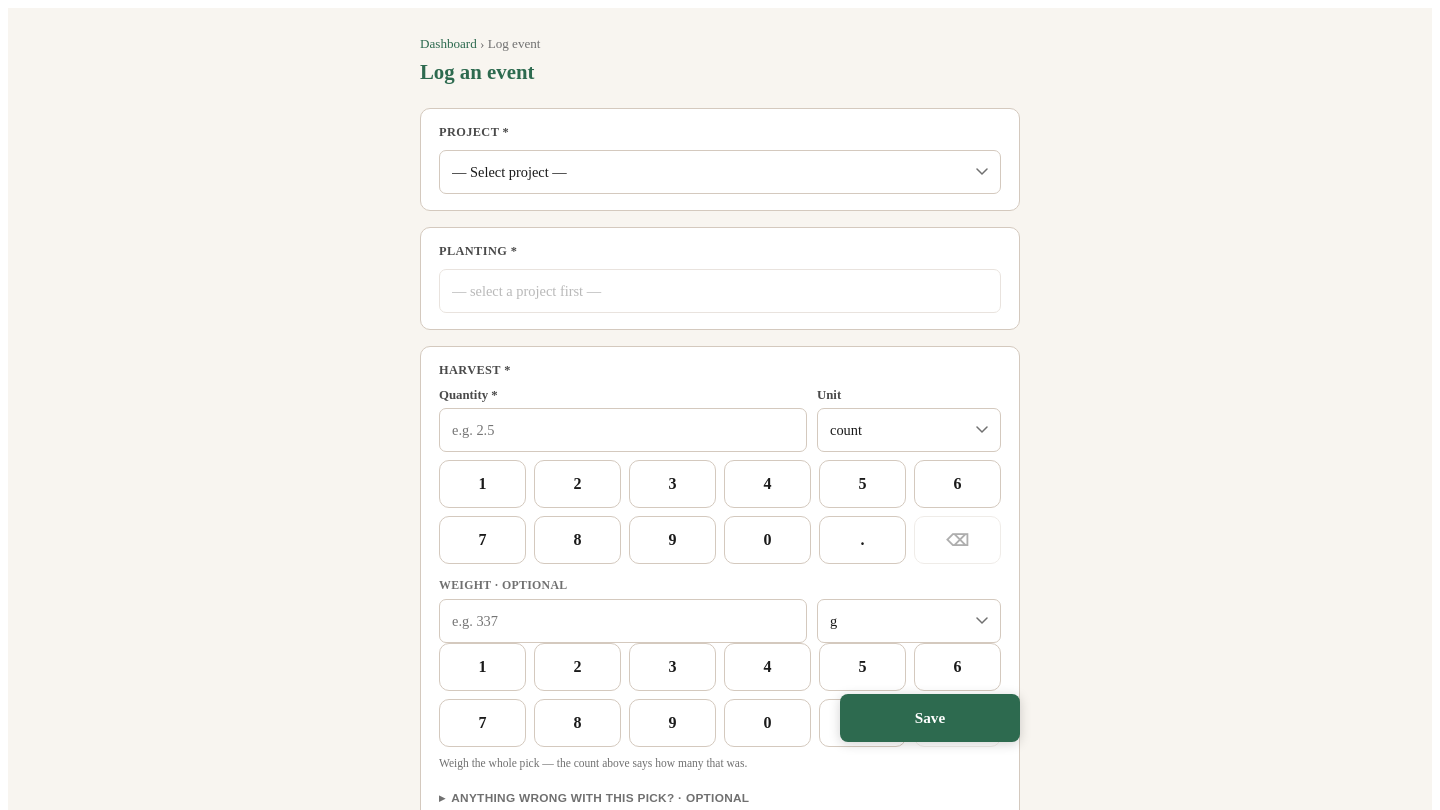
EventNew — sticky-band clearance wiring (BUG-WEIGHPADSAVEBAND-001) › a weight-keypad press clears it too — the pad-only path never focuses the field
The width and height of the screenshot is (1440, 810).
Click the button with test id "wt-key-3".
click(672, 667)  # box [629,643,716,691]
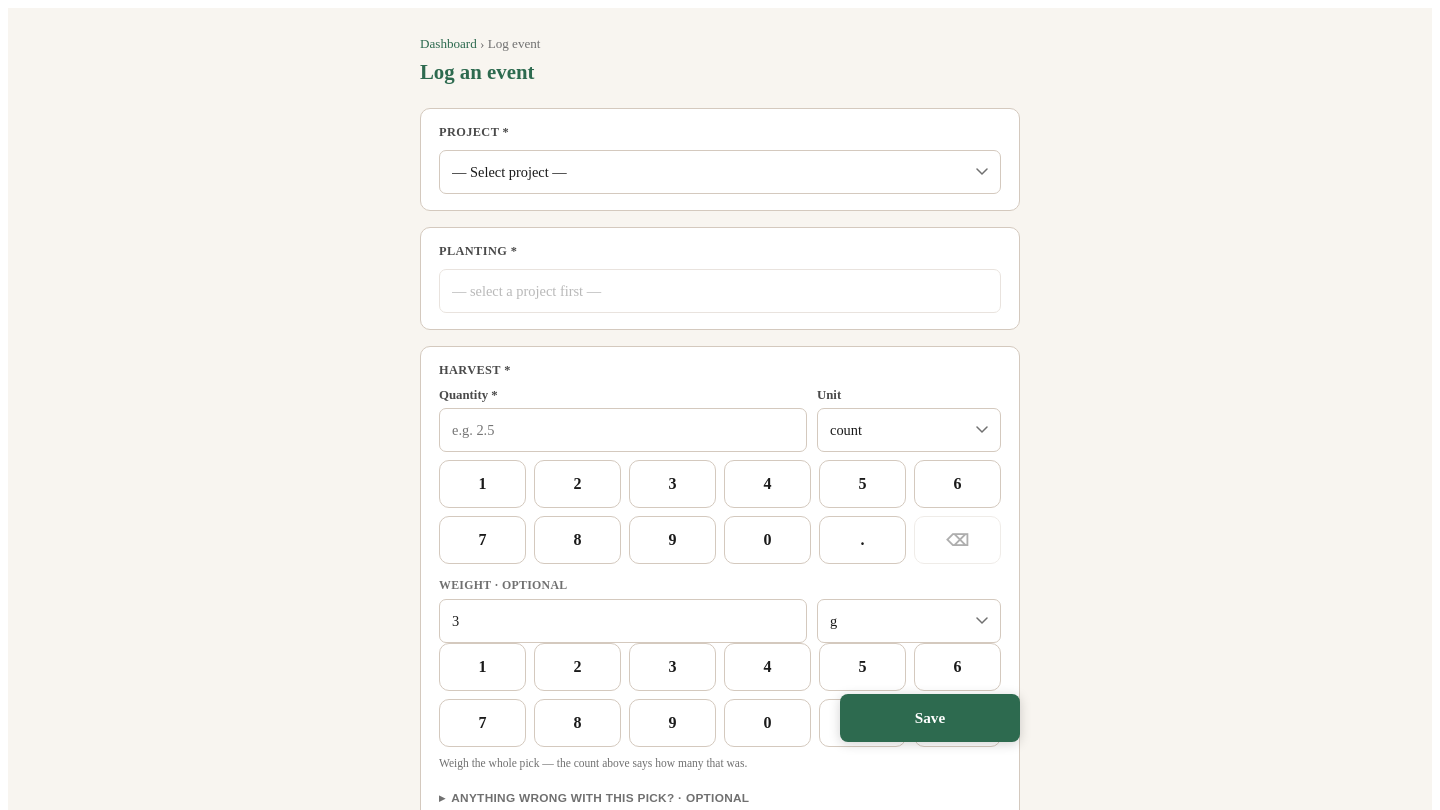
expect the field named "Harvest weight" holds "3": met, box [439,599,807,643]
